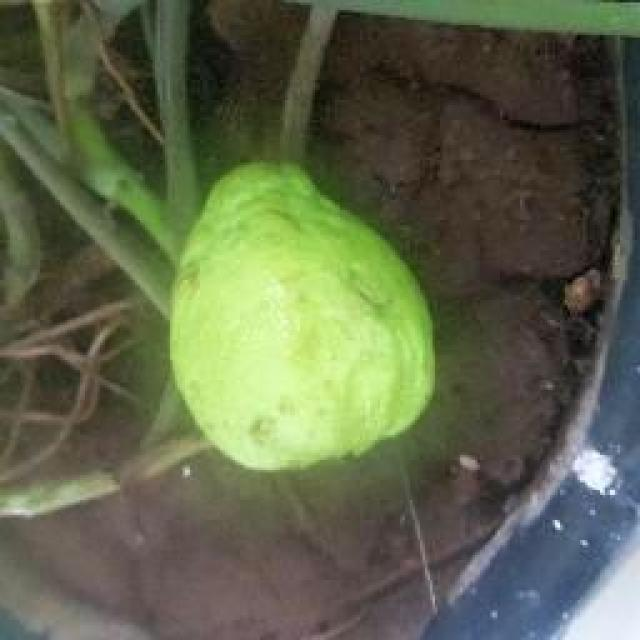Good_Guava: (165, 160, 438, 478)
